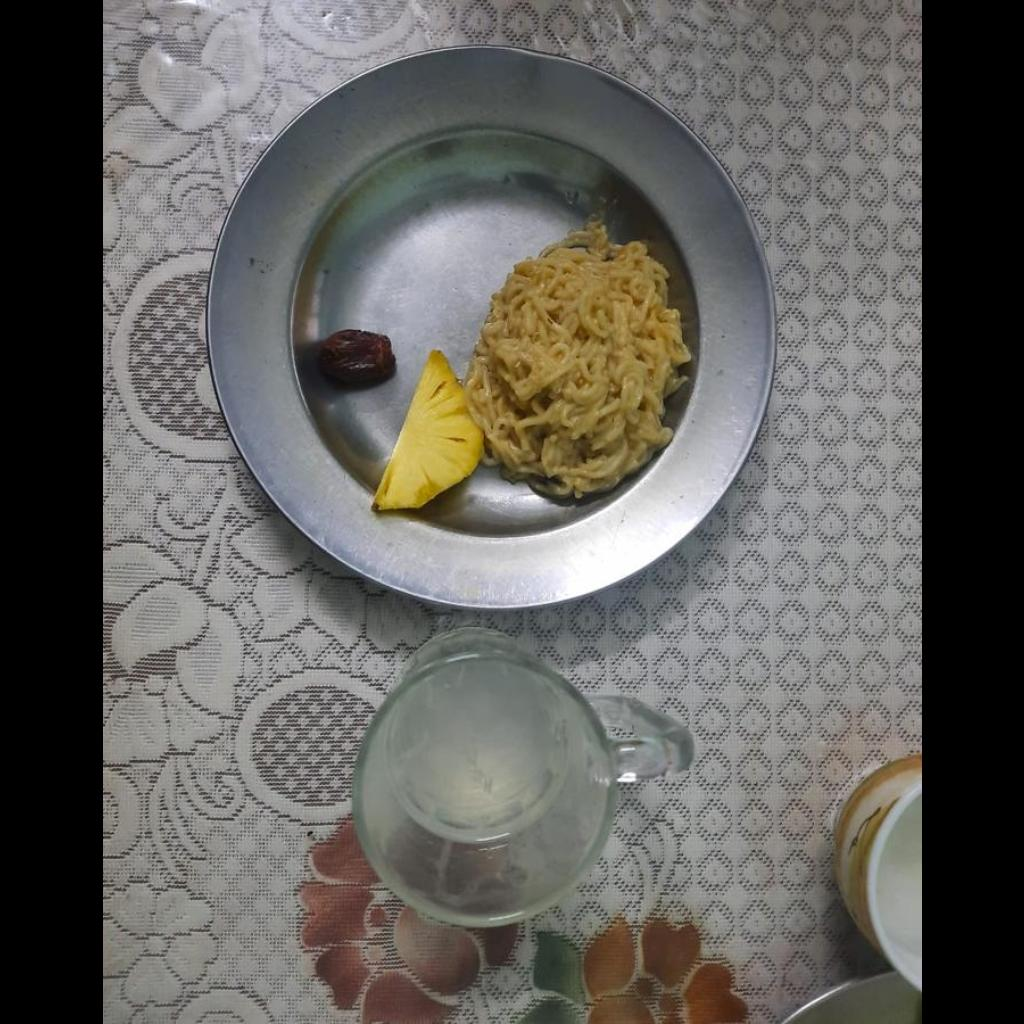dates: (309, 327, 391, 390)
noodles: (473, 229, 703, 497)
pineapple: (374, 357, 473, 514)
